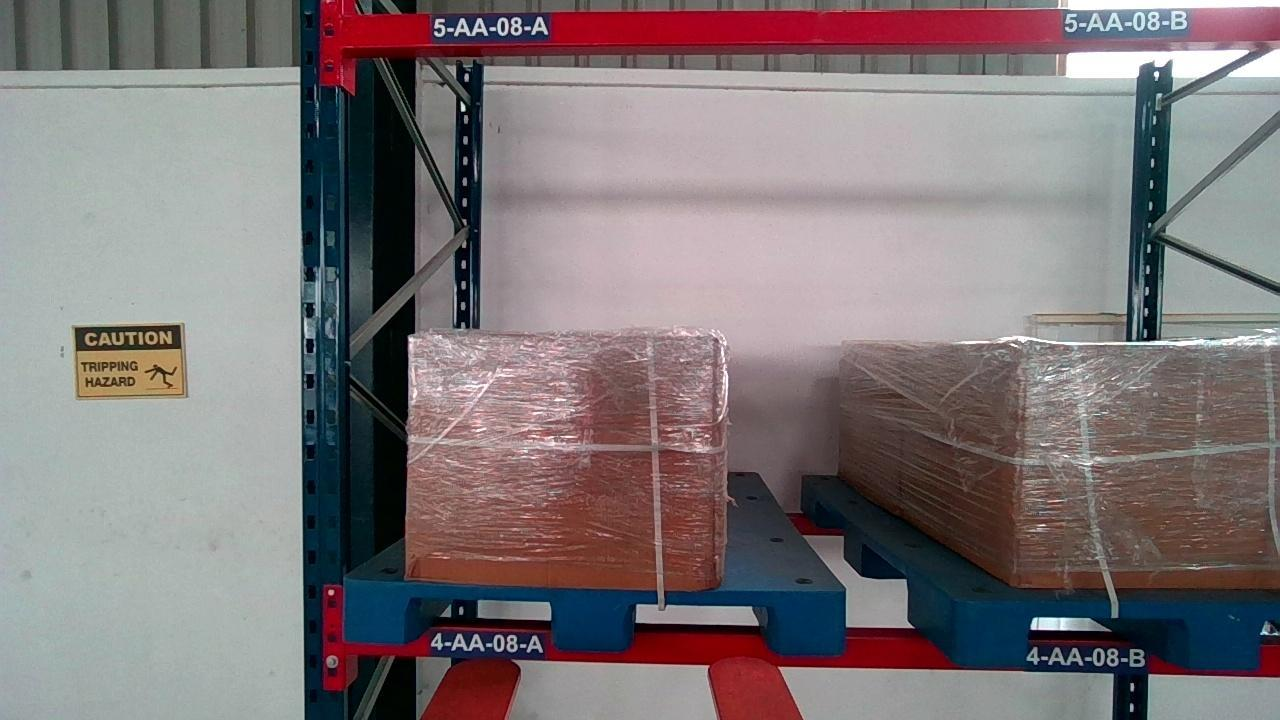h_rack: (336, 625, 1280, 674), (340, 6, 1280, 48)
small_pallet: (344, 582, 845, 656), (961, 602, 1280, 671)
